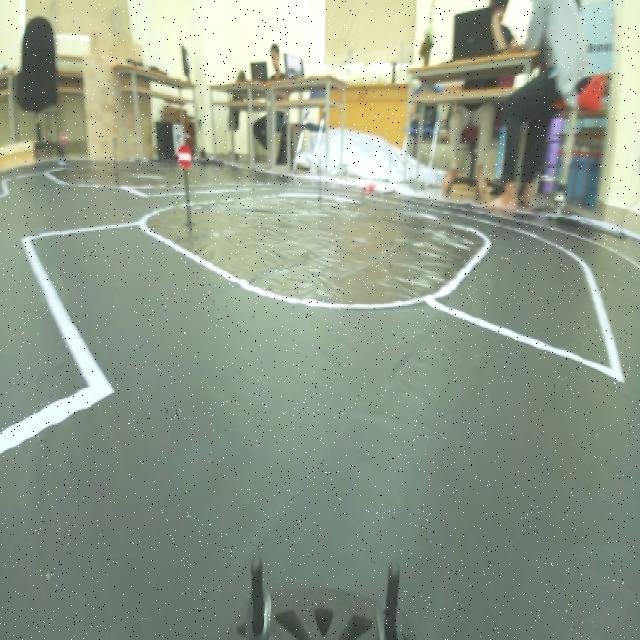no_entry: (173, 140, 200, 178)
